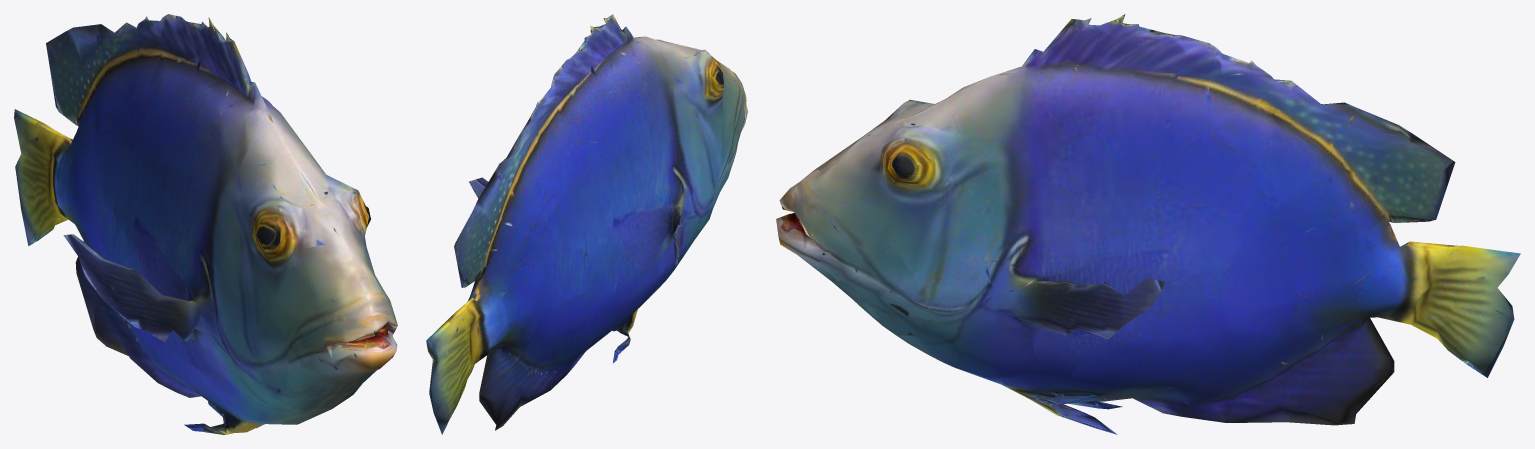
The model's file is fish_blue.glb.
3 views of the same model, side by side, from view 1: azimuth 30°, elevation 25°; view 2: azimuth 150°, elevation 25°; view 3: azimuth 270°, elevation 25° (orthographic). The views are drawn at different scales.
Visible parts, largest first — view 1: fish_blue; view 2: fish_blue; view 3: fish_blue.
Part boxes in pixels (bbox=[...]): fish_blue: bbox=[14, 14, 397, 434]; fish_blue: bbox=[426, 14, 747, 434]; fish_blue: bbox=[776, 14, 1520, 434].
Size of the model in its own units: 0.3883 by 0.6049 by 0.9943.
Materials: 1 (1 with a texture image).
